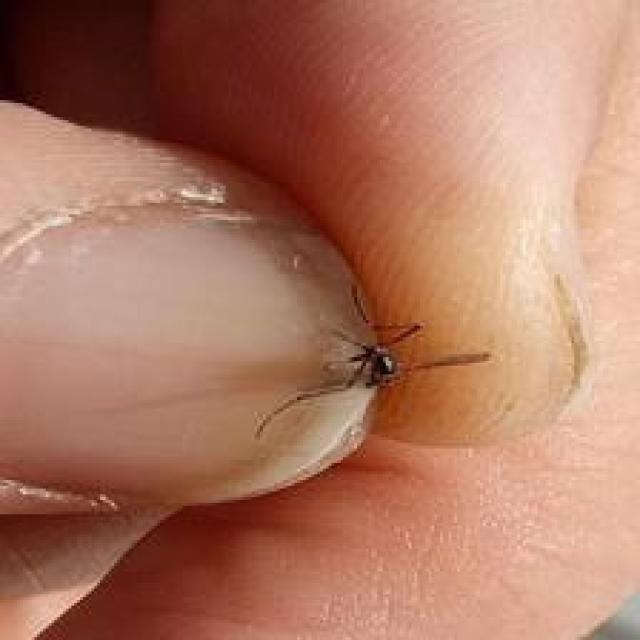Aedes albopictus: (252, 283, 492, 443)
